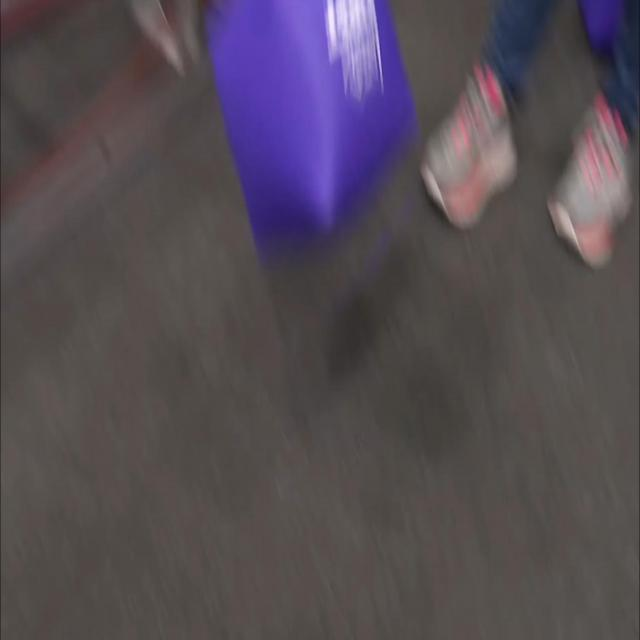frc_cube: (203, 0, 418, 261)
